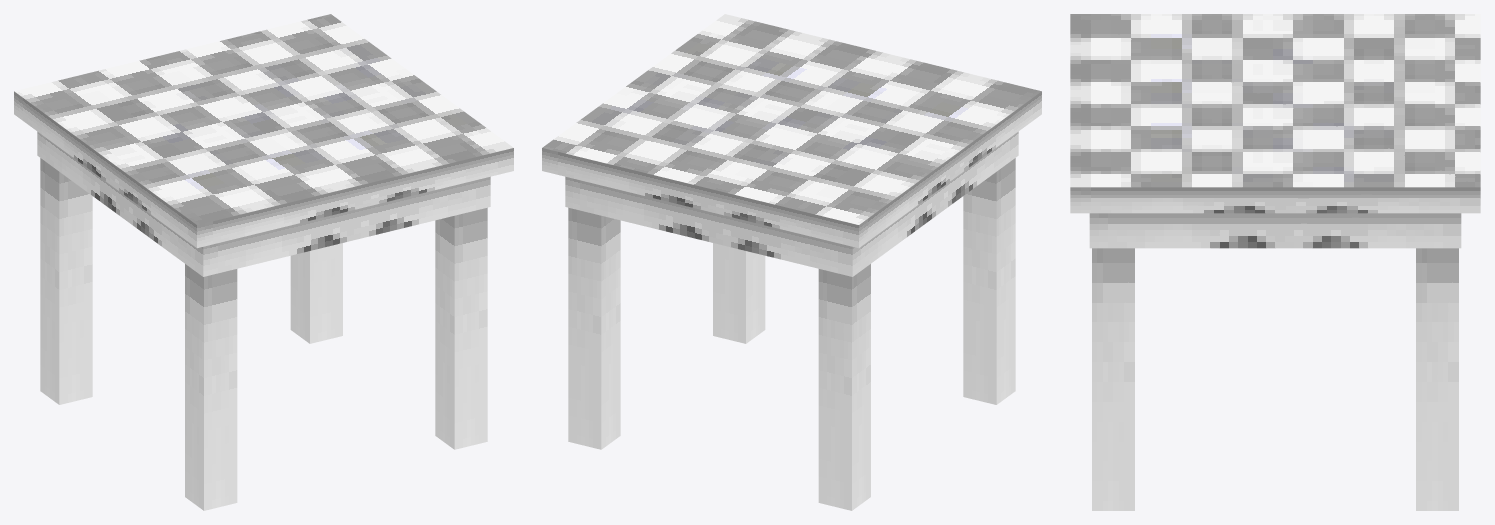
File: Building_ChessTable.glb
3 renders of one model, left to right at view 1: azimuth 30°, elevation 25°; view 2: azimuth 150°, elevation 25°; view 3: azimuth 270°, elevation 25°, orthographic. The views are drawn at different scales.
Parts seen in each view (by area): view 1: ChessTable; view 2: ChessTable; view 3: ChessTable.
Boxes of the visible parts, <box> form: ChessTable: <box>14,14,513,510</box>; ChessTable: <box>542,14,1041,510</box>; ChessTable: <box>1070,14,1480,510</box>.
Bounding box in the file's own units: 0.86 × 0.77 × 0.86.
1 material, 1 textured.
